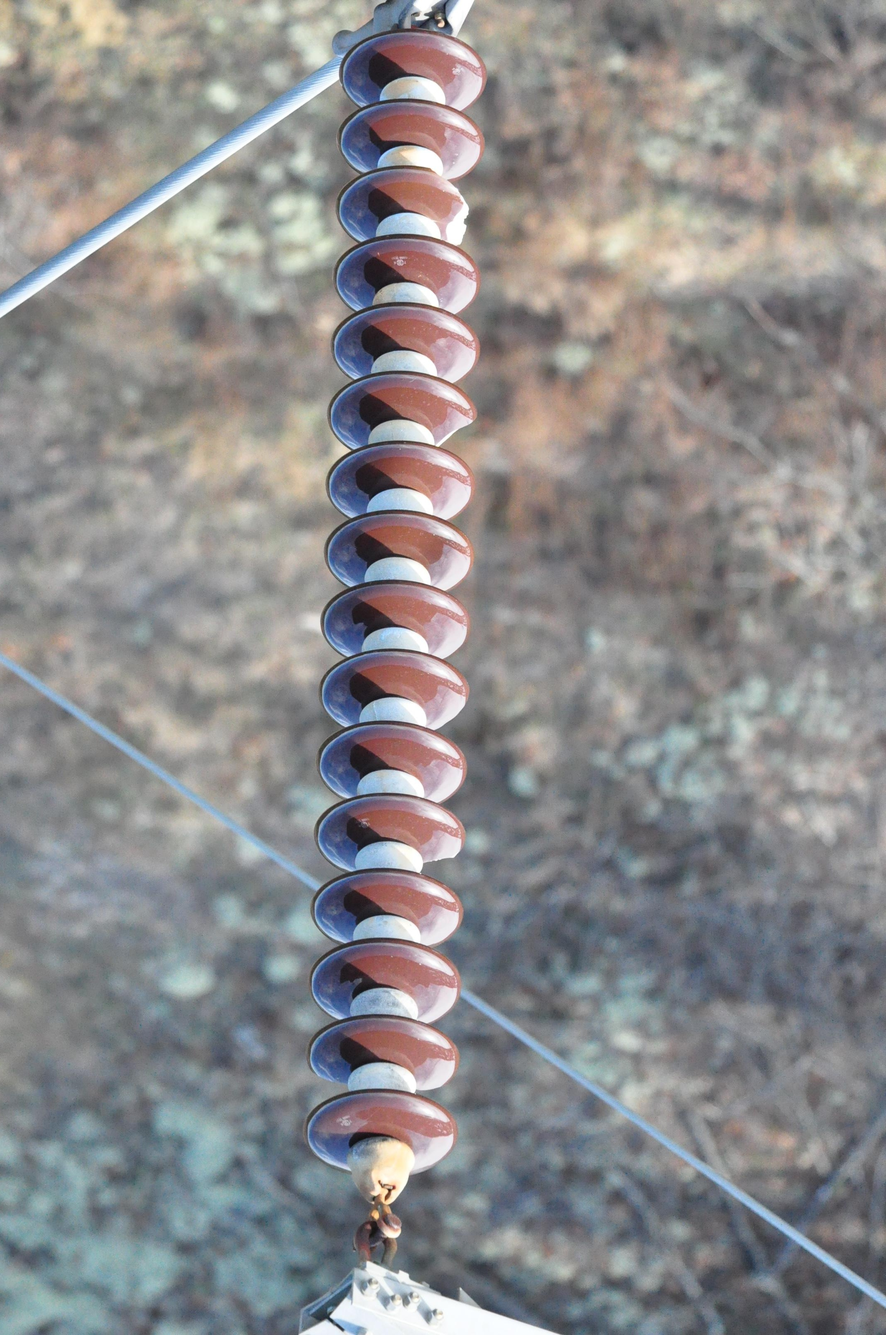damaged: (310, 1061, 449, 1102), (422, 168, 472, 252), (354, 844, 463, 877), (401, 411, 478, 453)
insulator: (302, 29, 491, 1181)
